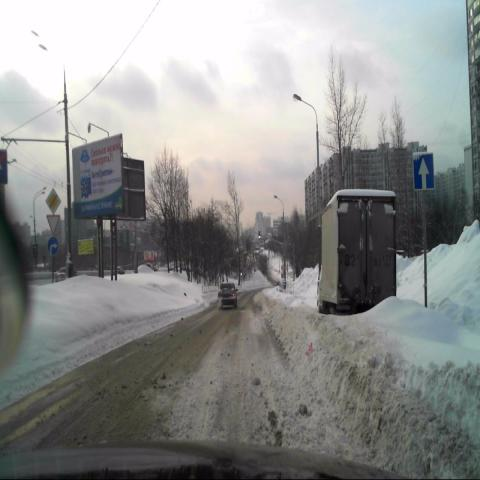5_5: (412, 152, 435, 194)
